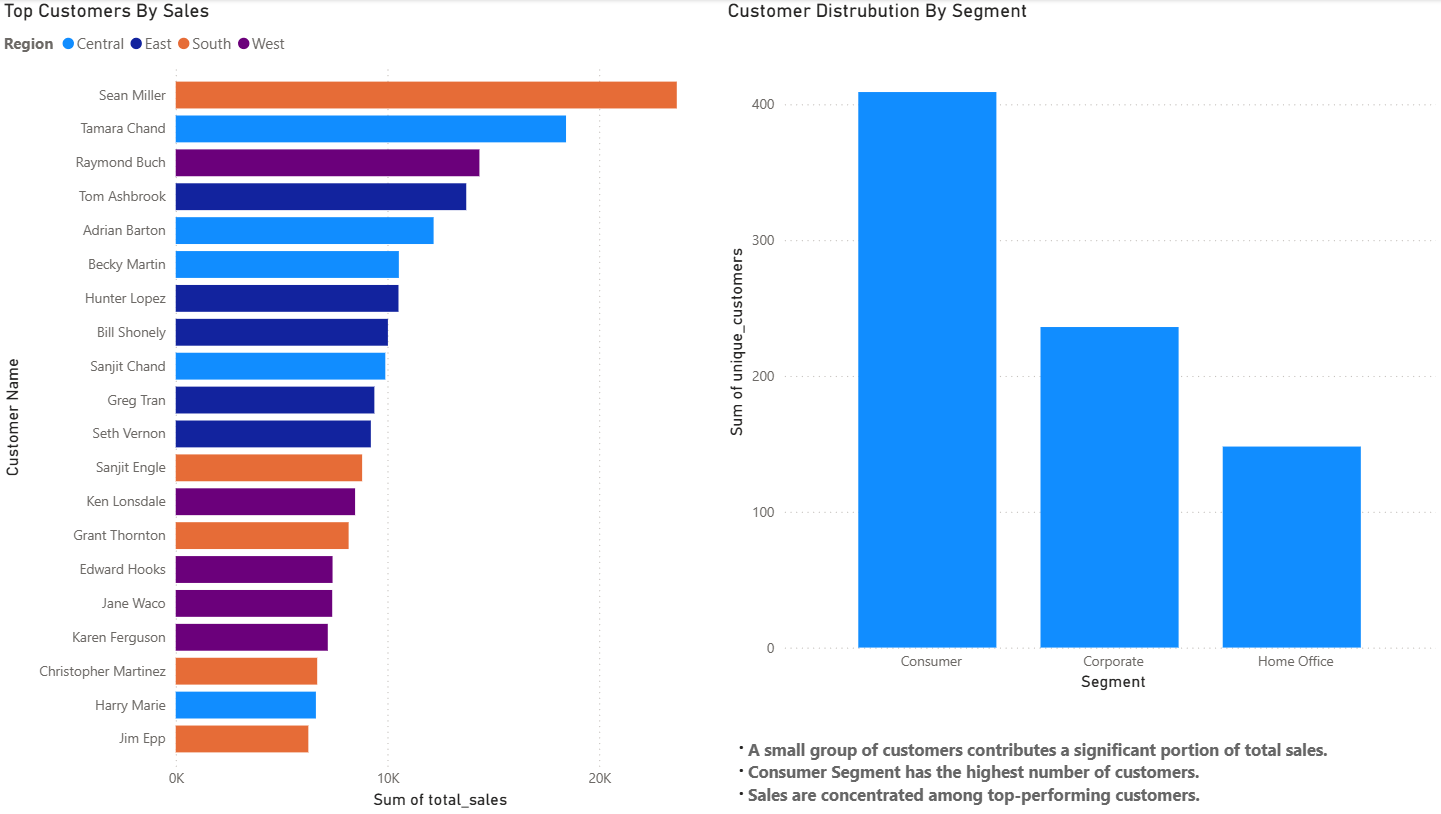

This screenshot's page, from the dashboard's own definition file:
{"tool":"powerbi","page":{"name":"Customer Insights","canvas":[1280,720],"ordinal":2},"visuals":[{"type":"barChart","title":"Top Customers By Sales","fields":{"Category":["_Q7_Top_5_Customers_by_Sales_in_each_Region_Window_Function_RANK_202604151212.Customer Name"],"Series":["_Q7_Top_5_Customers_by_Sales_in_each_Region_Window_Function_RANK_202604151212.Region"],"Y":["Sum(_Q7_Top_5_Customers_by_Sales_in_each_Region_Window_Function_RANK_202604151212.total_sales)"]},"box":[0,0,639.5,720.1],"z":0},{"type":"clusteredColumnChart","title":"Customer Distrubution By Segment","fields":{"Category":["_Q3_Unique_Customers_per_Segment_SELECT_Segment_COUNT_DISTINCT_C_202604151210.Segment"],"Y":["Sum(_Q3_Unique_Customers_per_Segment_SELECT_Segment_COUNT_DISTINCT_C_202604151210.unique_customers)"]},"box":[639.5,0,640.5,615.9],"z":1000},{"type":"textbox","box":[639.5,647.4,640.5,72.7],"z":1001}]}

Visuals, with their boxes in screenshot pixels (x1, y1, x2, y2), scaled from the page's 1280x720 canvas onto the 1441x814 screenshot:
"Top Customers By Sales" barChart: 0:0:720:813
"Customer Distrubution By Segment" clusteredColumnChart: 720:0:1440:696
textbox: 720:732:1440:813
